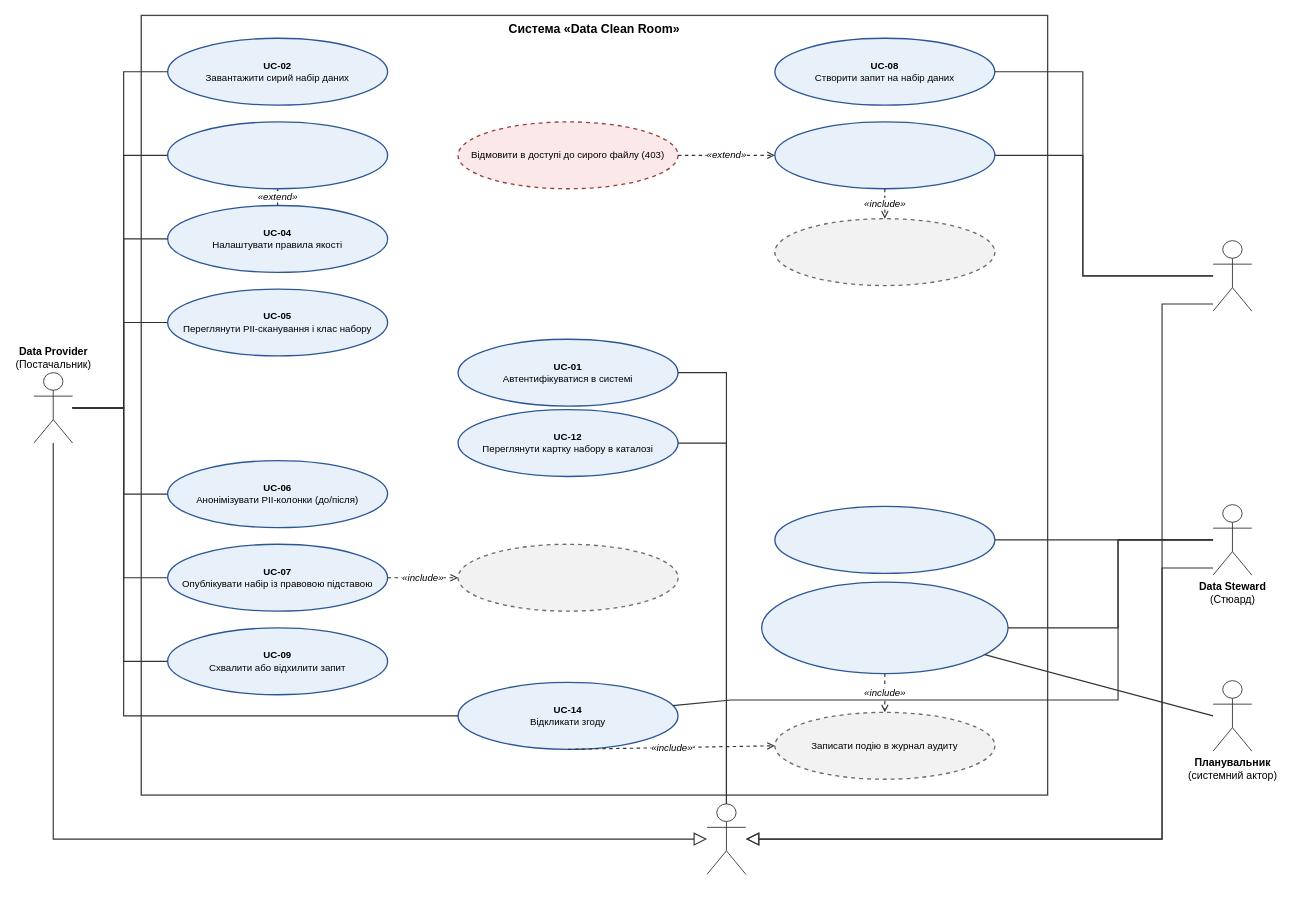
Some shapes in this 1292 by 921 pixel diagram are drawn without their labels. Here are the shapes that lost their labels. From the top down, the centre of each, then its label:
the point at 277,155: UC-03 Переглянути профіль набору та Quality Score
the point at 884,155: UC-10 Завантажити очищений набір
the point at 884,252: Перевірити права доступу (клас × роль × статус)
the point at 1232,275: Data Consumer (Споживач)
the point at 884,539: UC-11 Переглянути журнал аудиту
the point at 567,577: Перевірити ворота публікації
the point at 884,627: UC-13 Видалити сиру та опубліковану версії після терміну зберігання
the point at 726,838: Користувач системи (абстрактний актор)
